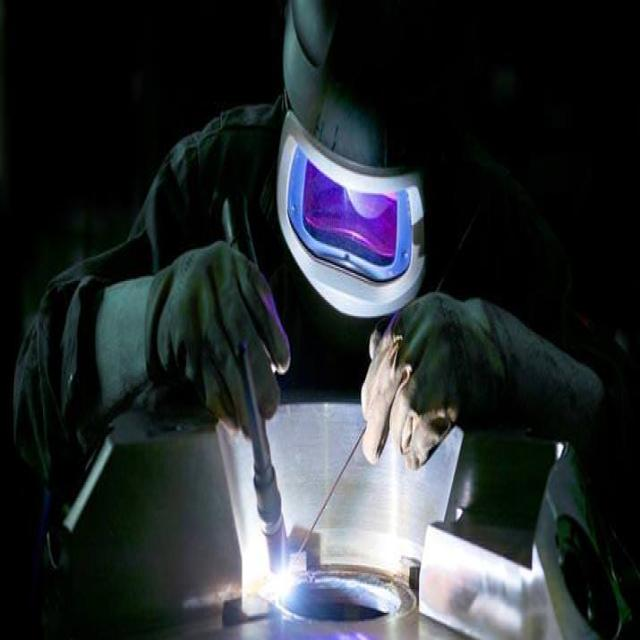welding: (266, 553, 295, 592)
